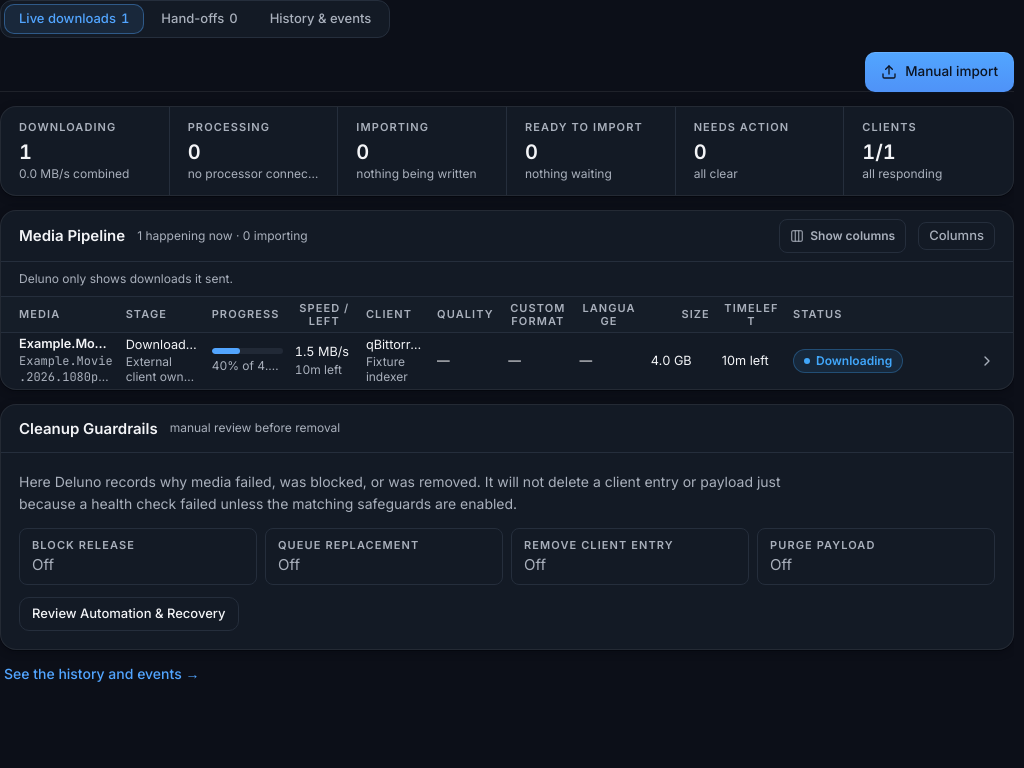
it: download drawer: header › with no title the drawer title is the release name
Click the text "Example.Movie.2026.1080p.WEB-DL-GROUP" at (507, 360), box top-left (1, 332), bottom-right (1013, 388)
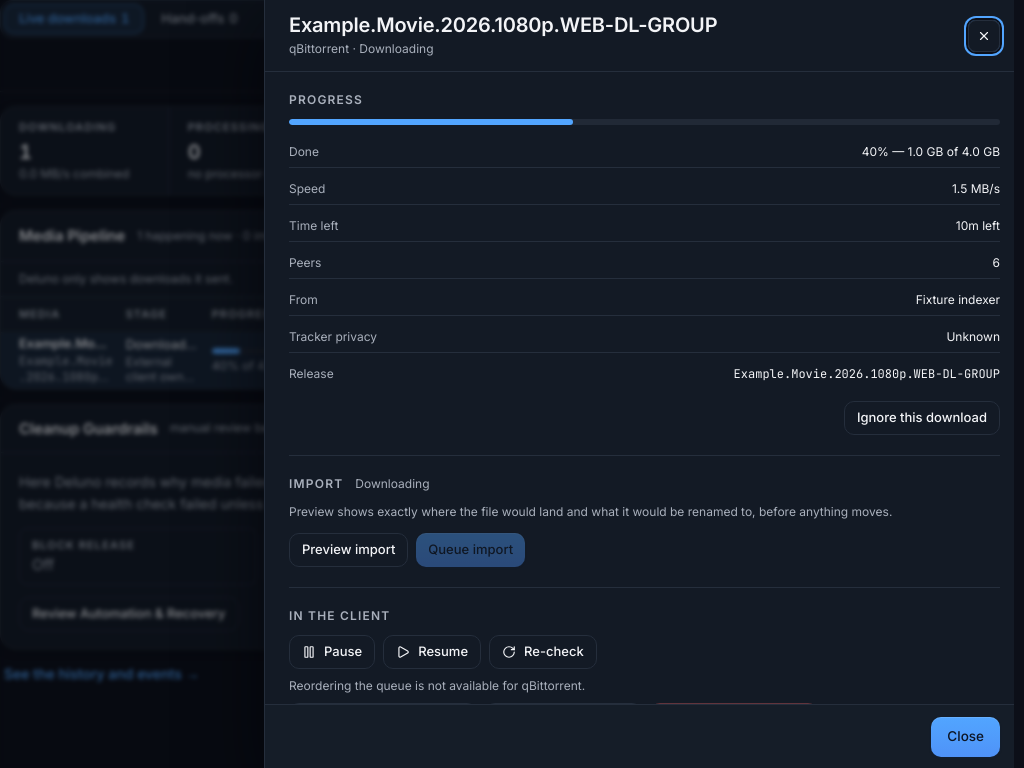
expect the heading "Example.Movie.2026.1080p.WEB-DL-GROUP" is shown: met, box top-left (289, 13), bottom-right (717, 38)
